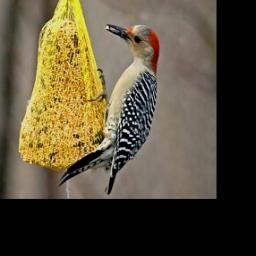Woodpecker: (54, 16, 174, 193)
